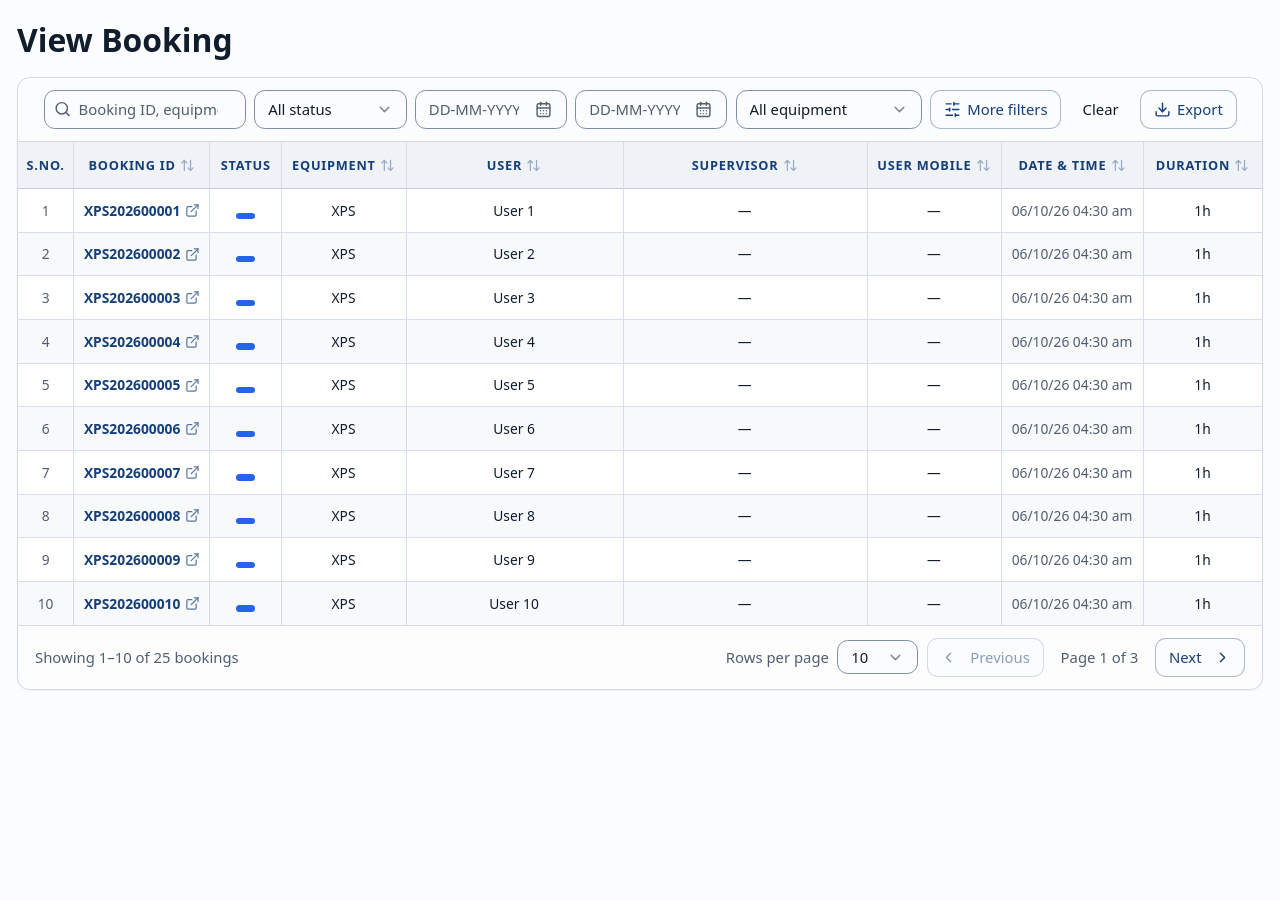
View Booking (staff) live filters › never shows an older query's results after a newer one
Expected: the button "XPS202600001" is shown, [84,200,200,221]
Step 1. Type "old" into the search field named "Search" → {"x": 145, "y": 109}, box [44,90,246,129]
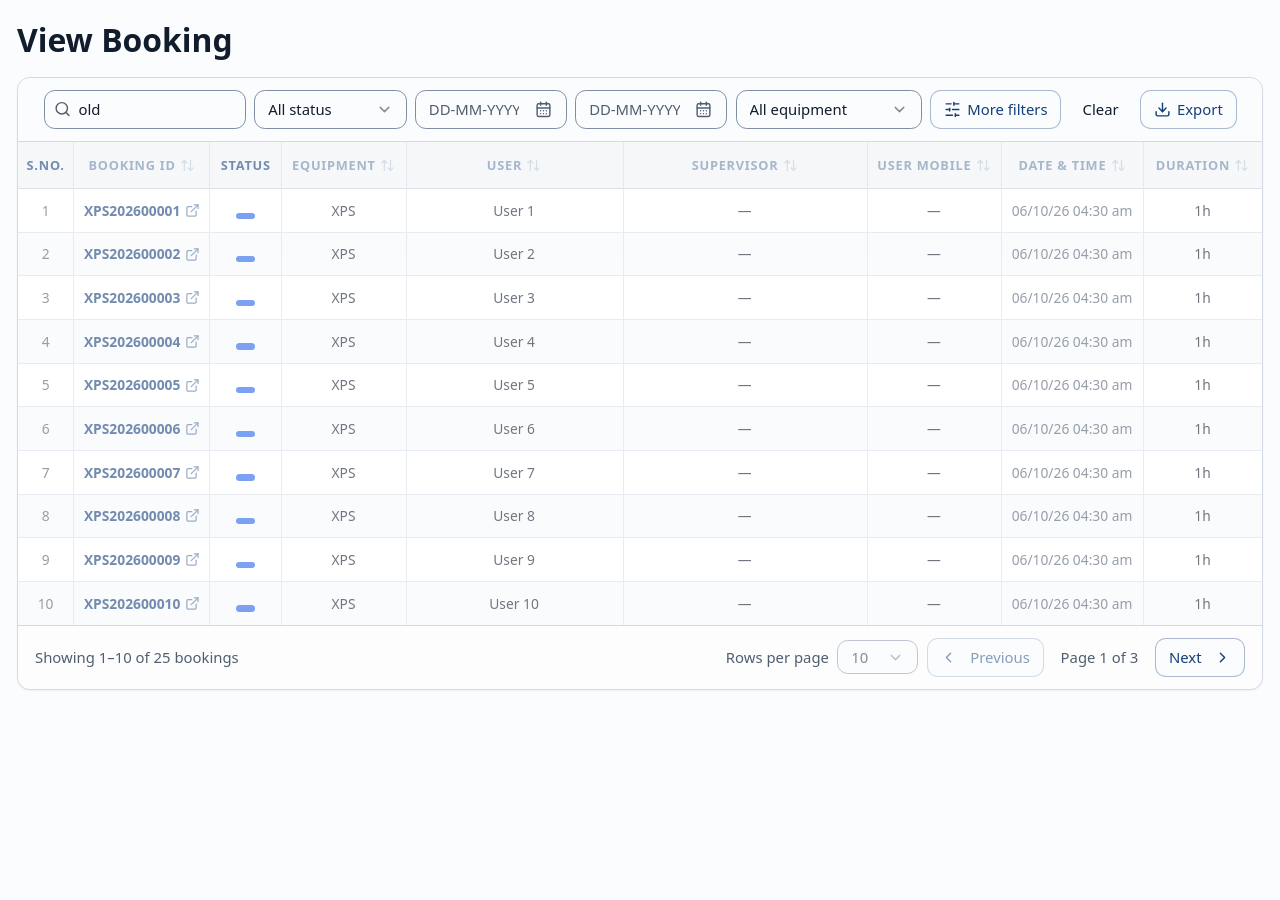
Step 2. Replace the text in the search field named "Search" with "newer" → {"x": 145, "y": 109}, box [44,90,246,129]
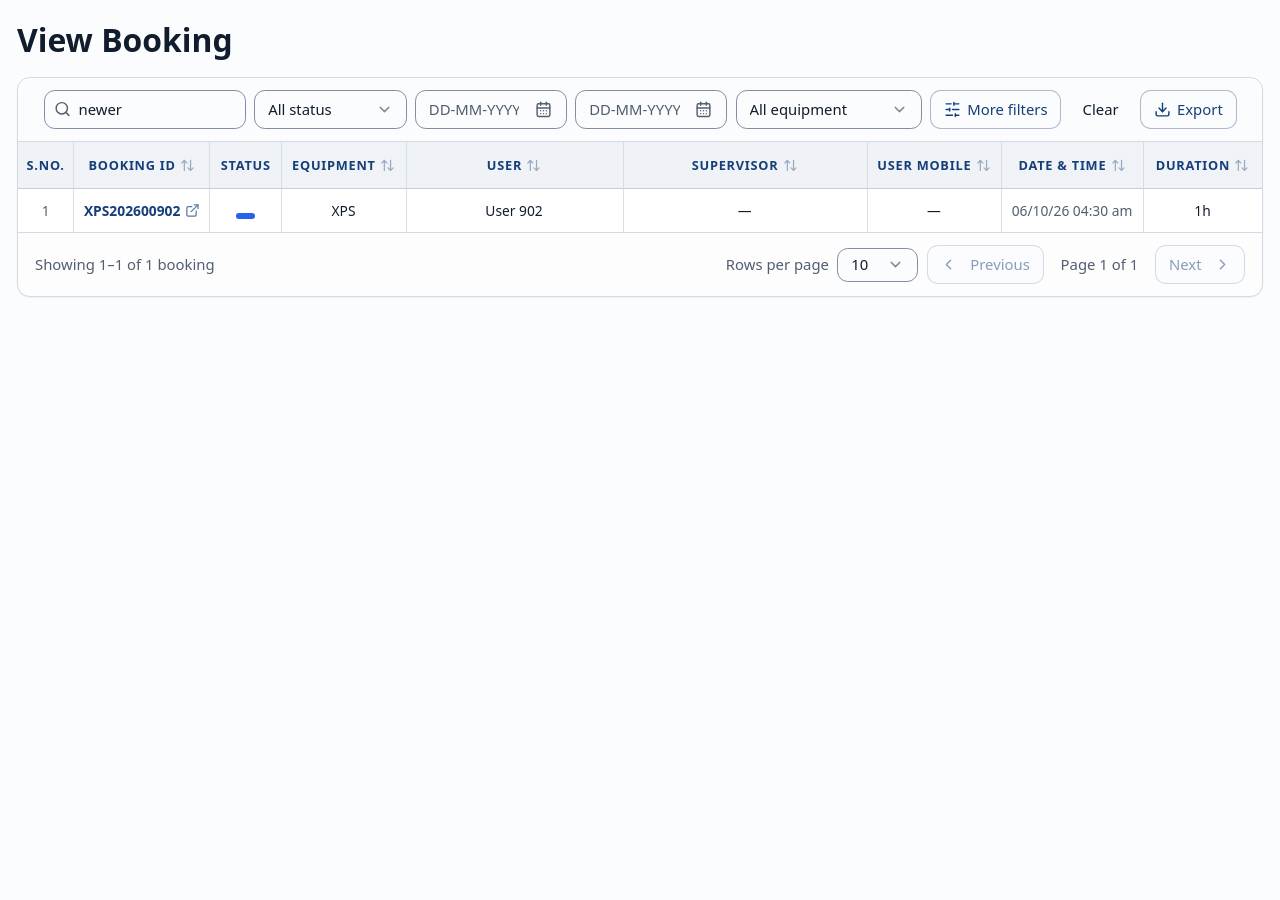
Expected: the button "XPS202600902" is shown, [84,200,200,221]
